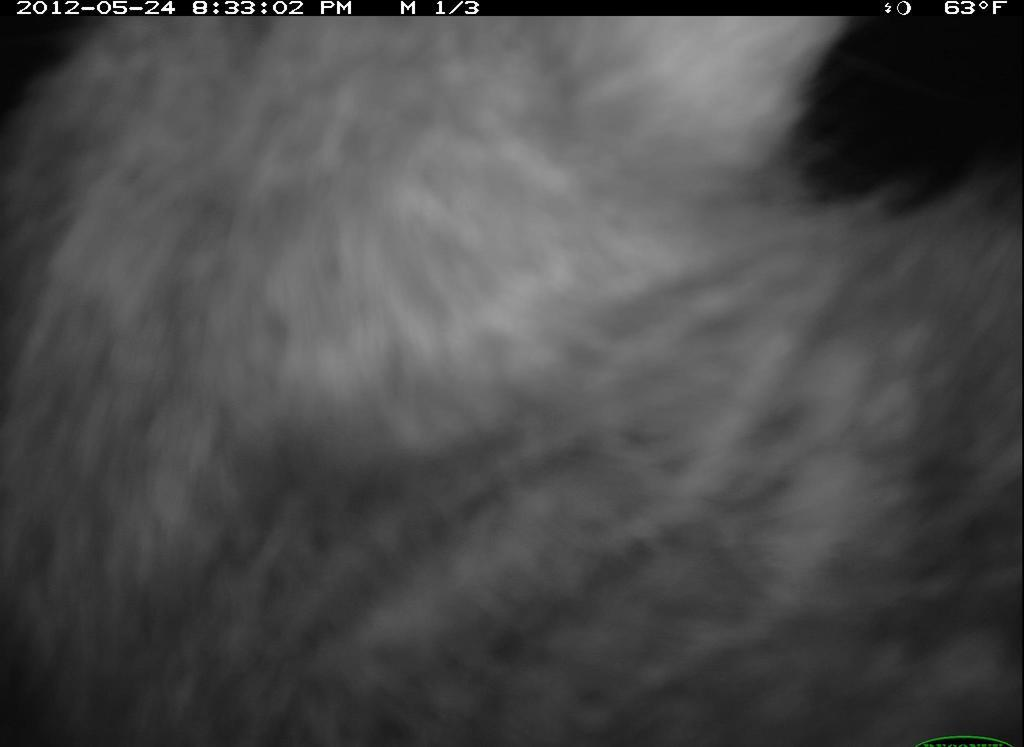raccoon: (11, 9, 1022, 731)
